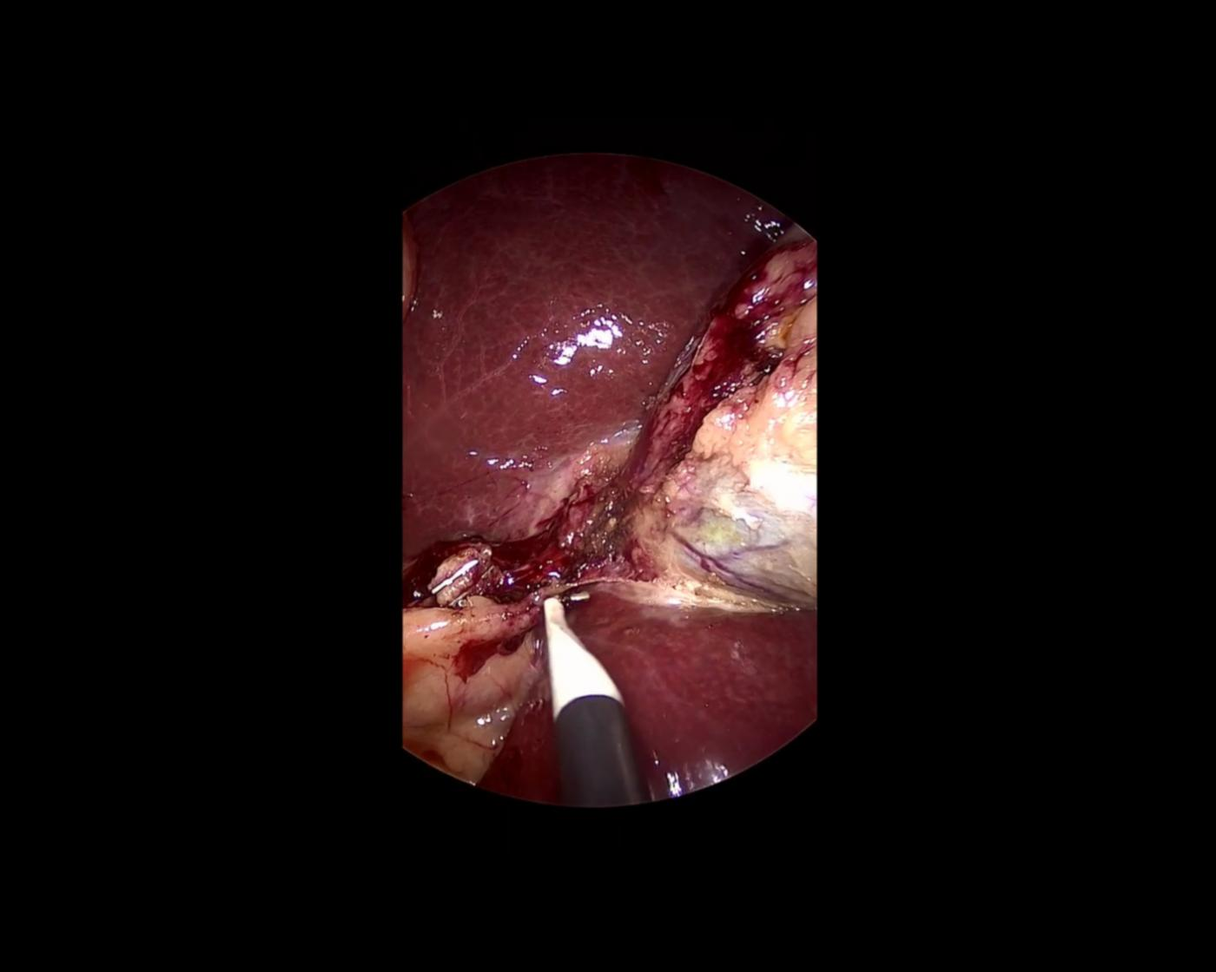Cautery: (537, 588, 646, 813)
Gallbladder: (626, 224, 815, 612)
Liver: (399, 152, 792, 561), (477, 586, 823, 825)
